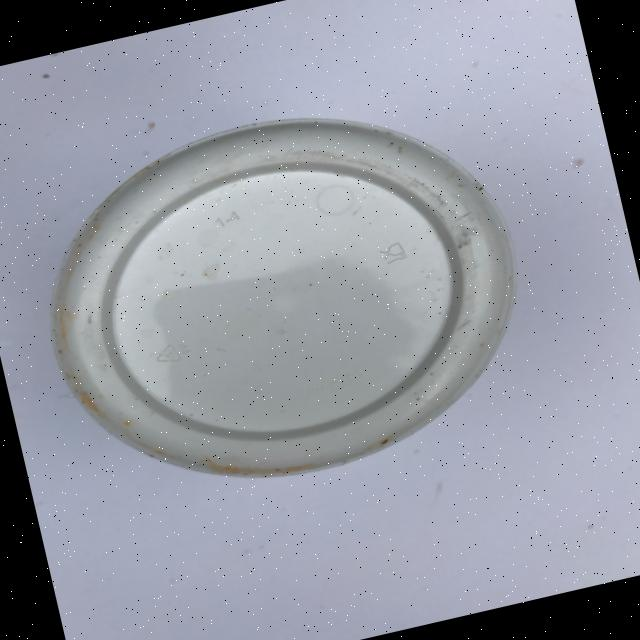plastic: (13, 71, 553, 523)
